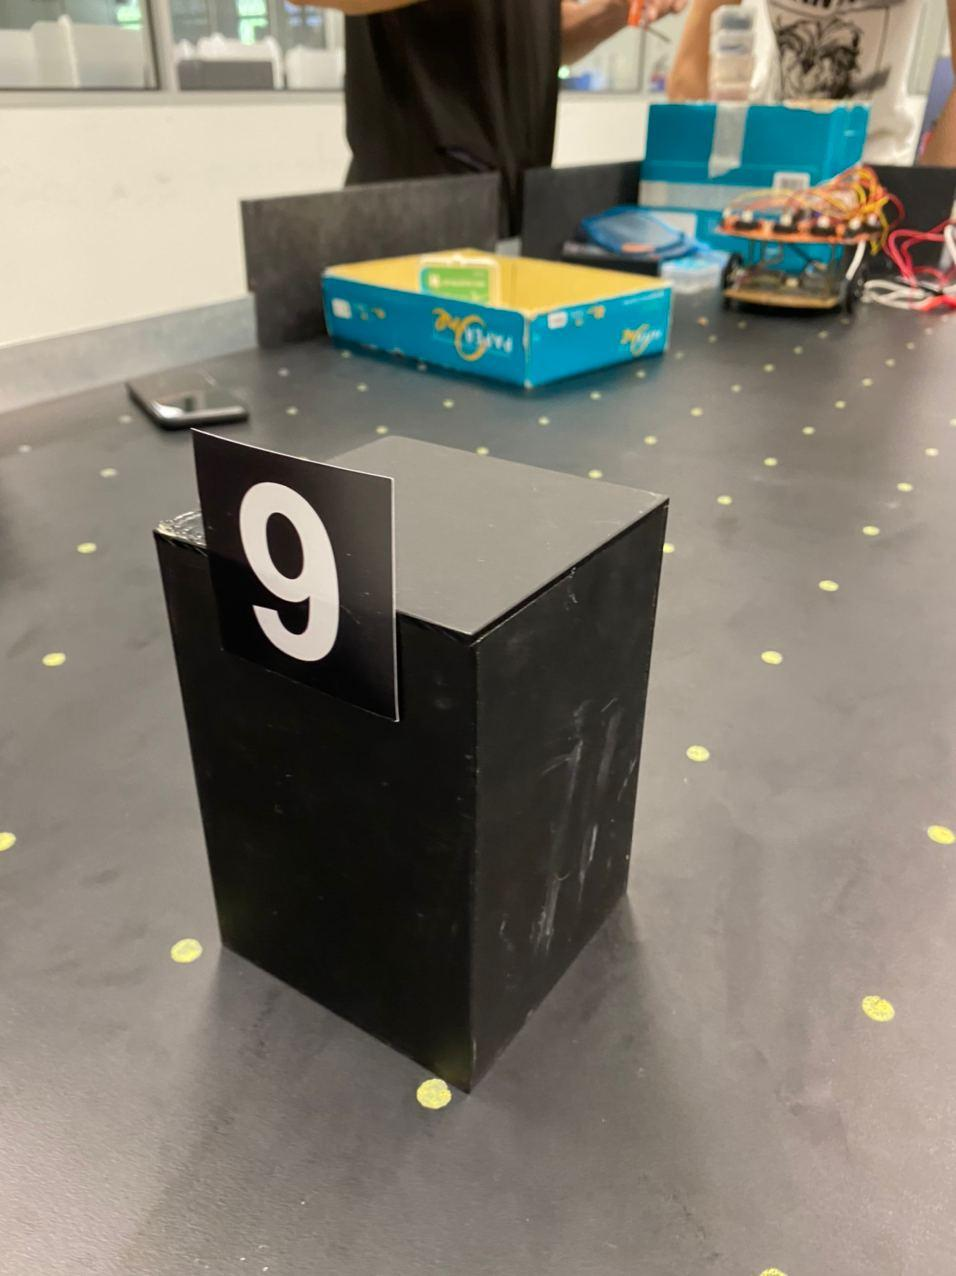9dd: (228, 459, 358, 676)
